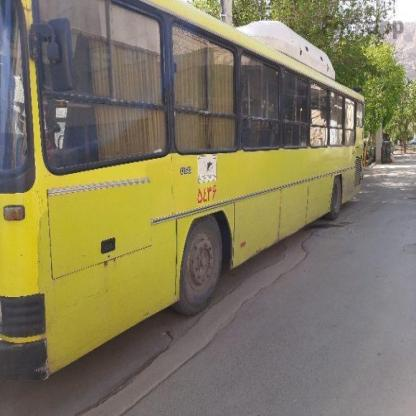Bus: (0, 0, 365, 391)
